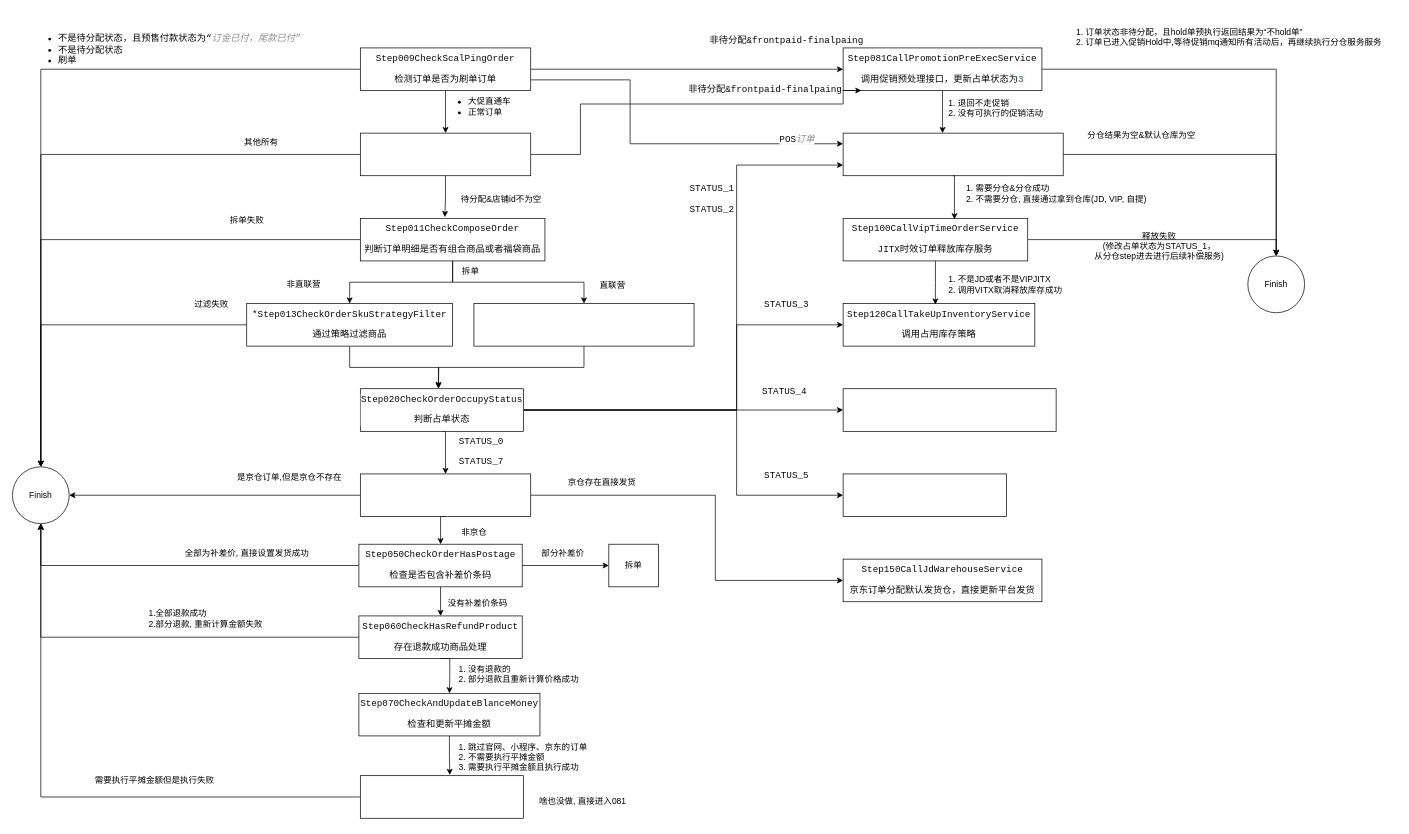
Some shapes in this 1409 by 834 pixel diagram are drawn without their labels. Here are the shapes that lost their labels. From the top down, the box of each, then its label:
(360, 132, 531, 176): Step010CheckOrderStatus 判断此订单是否为待分配状态
(842, 132, 1063, 176): Step090CallDistributeWarehouseService 调用分仓服务，订单分配到发货仓，更新占单状态为 2
(473, 303, 694, 346): Step015CheckZlyOrderSkuStrategyFilter 根据策略明细拆单
(842, 388, 1056, 431): Step130CallDistributeLogisticsService 调用分配物流策略
(360, 473, 531, 517): Step040CheckIsJDWarehouseOrder 判断是否为京仓订单
(842, 473, 1006, 517): Step140CallSummaryService 调用订单信息整理服务
(360, 775, 524, 818): Step080CheckHasPreSaleProduct 检查是否包含预售商品
